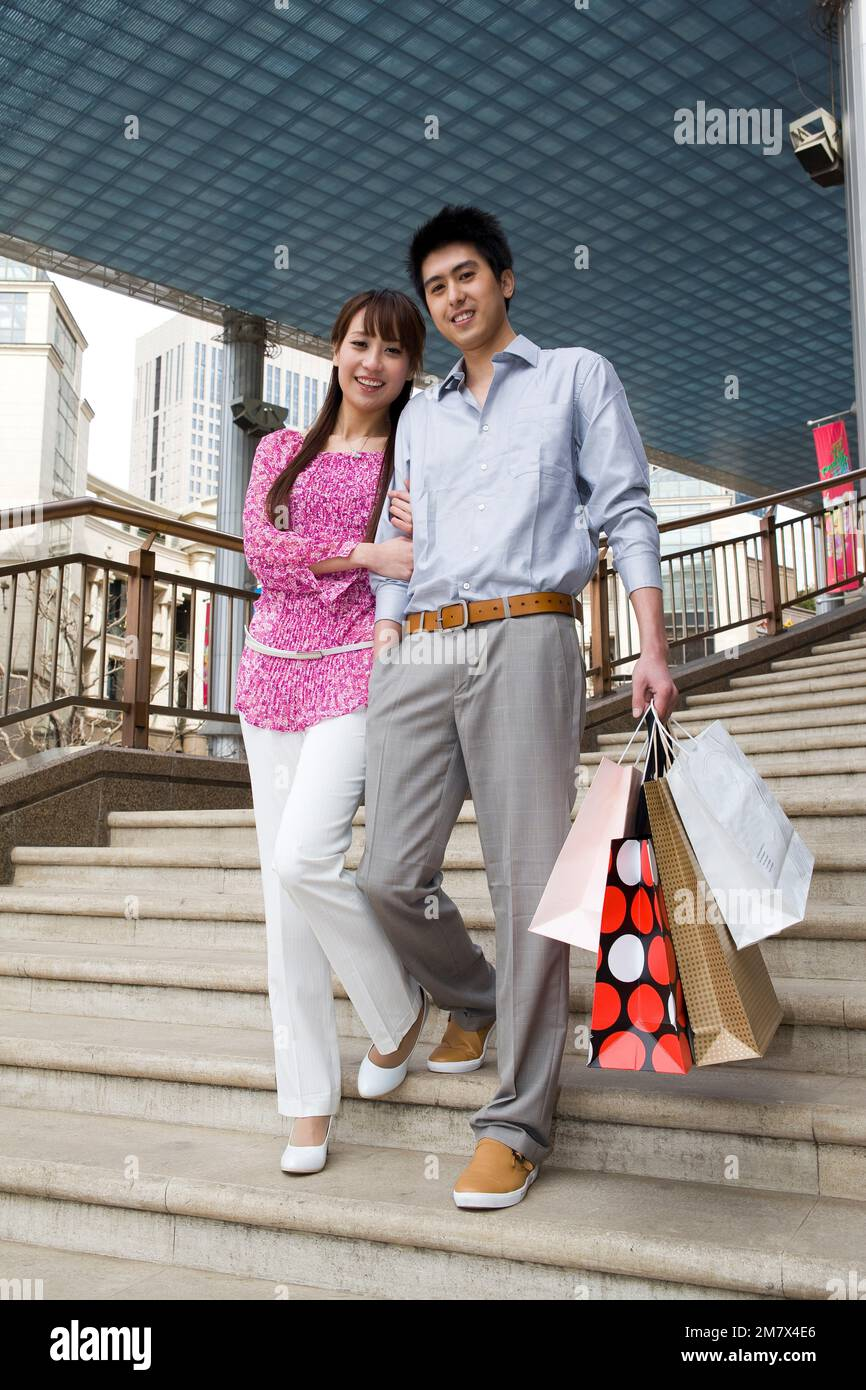person: (353, 209, 663, 1211), (237, 279, 433, 1181)
